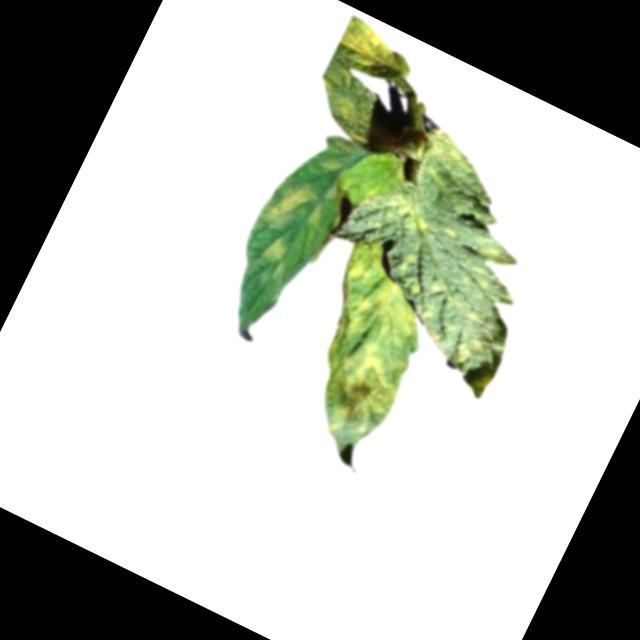Leaf_Mold: (273, 235, 453, 457), (331, 14, 418, 90), (410, 123, 489, 199), (378, 188, 436, 242), (265, 181, 315, 235), (260, 235, 295, 271)
